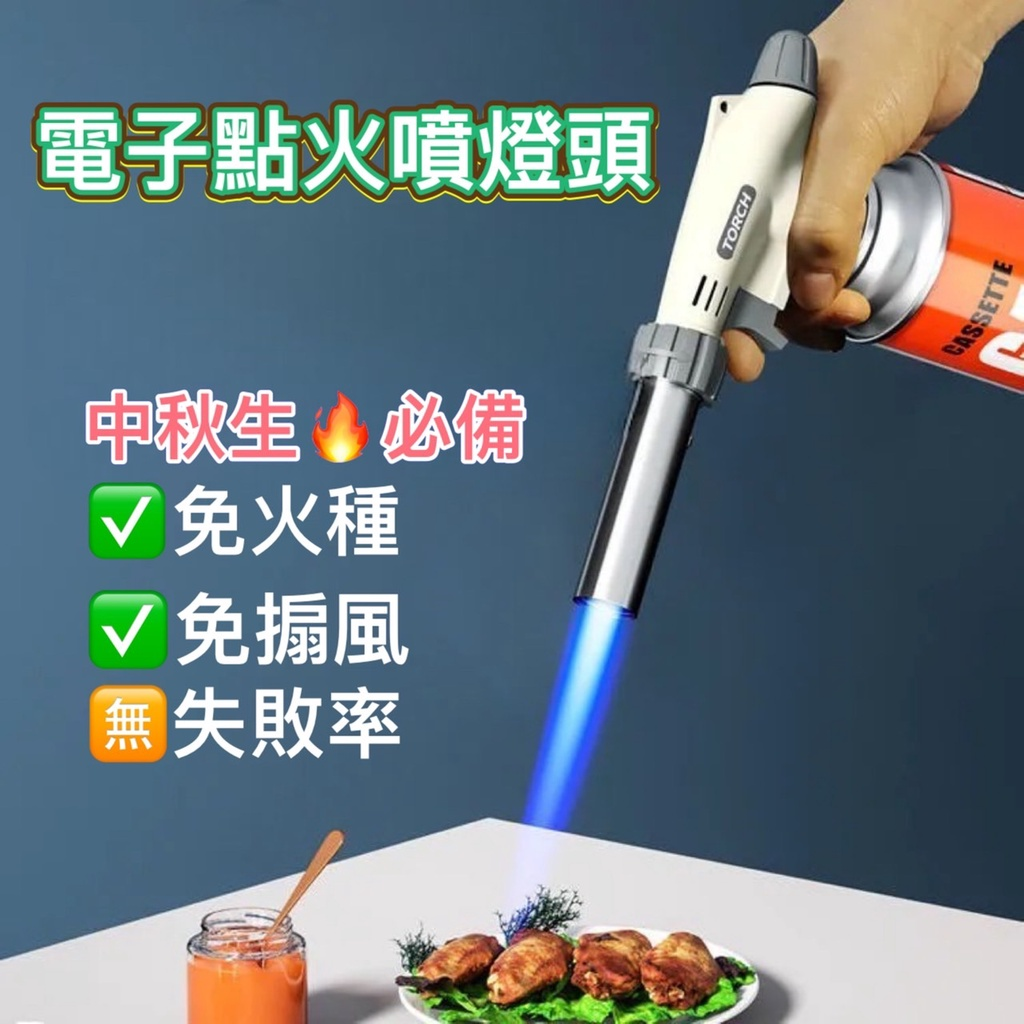gastorch: (545, 16, 1024, 705)
